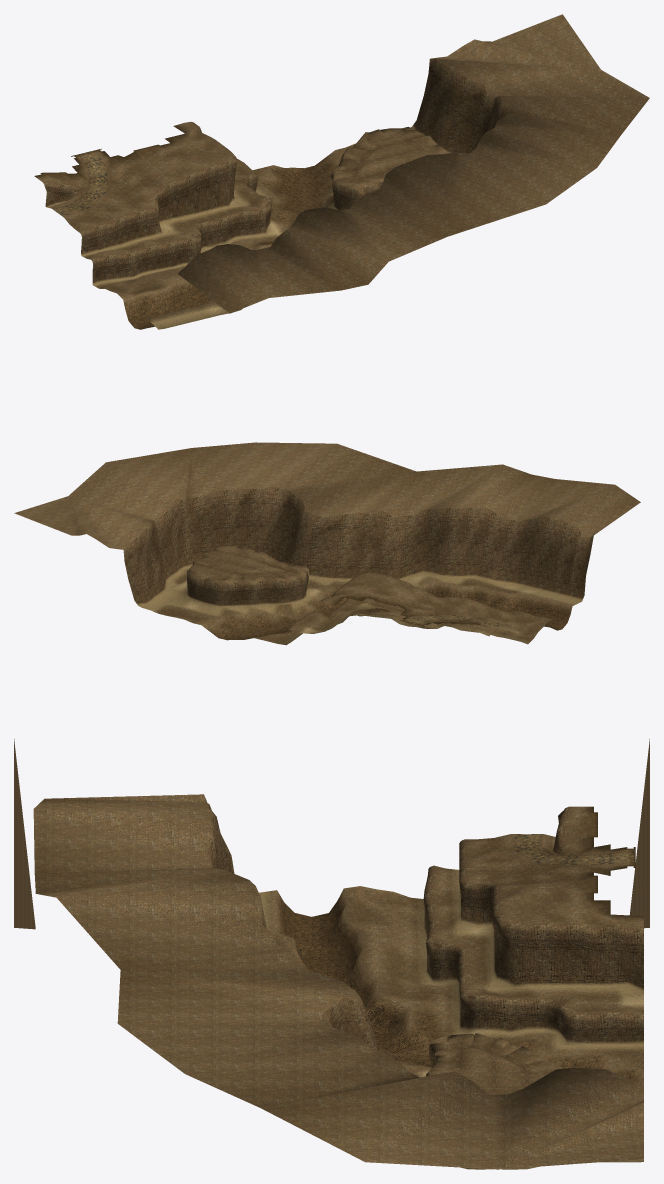
Rendered from Mission12_Zone01C.glb.
3 views of the same model, one above another, from view 1: azimuth 30°, elevation 25°; view 2: azimuth 150°, elevation 25°; view 3: azimuth 270°, elevation 25° (orthographic). The views are drawn at different scales.
Visible parts, largest first — view 1: MISSION12_ZONE01C022, MISSION12_ZONE01C099, MISSION12_ZONE01C023, MISSION12_ZONE01C255, MISSION12_ZONE01C047, MISSION12_ZONE01C044, MISSION12_ZONE01C013, MISSION12_ZONE01C164, MISSION12_ZONE01C002, MISSION12_ZONE01C060, MISSION12_ZONE01C004, MISSION12_ZONE01C001 (+40 smaller); view 2: MISSION12_ZONE01C022, MISSION12_ZONE01C099, MISSION12_ZONE01C164, MISSION12_ZONE01C013, MISSION12_ZONE01C023, MISSION12_ZONE01C044, MISSION12_ZONE01C047, MISSION12_ZONE01C002, MISSION12_ZONE01C026, MISSION12_ZONE01C096, MISSION12_ZONE01C140, MISSION12_ZONE01C027 (+63 smaller); view 3: MISSION12_ZONE01C099, MISSION12_ZONE01C013, MISSION12_ZONE01C002, MISSION12_ZONE01C022, MISSION12_ZONE01C023, MISSION12_ZONE01C164, MISSION12_ZONE01C047, MISSION12_ZONE01C020, MISSION12_ZONE01C231, MISSION12_ZONE01C060, MISSION12_ZONE01C142, MISSION12_ZONE01C240 (+54 smaller).
Boxes of the visible parts, bbox=[...] form: MISSION12_ZONE01C022: bbox=[447, 154, 545, 236]; MISSION12_ZONE01C099: bbox=[501, 95, 649, 134]; MISSION12_ZONE01C023: bbox=[477, 148, 596, 204]; MISSION12_ZONE01C255: bbox=[493, 14, 600, 69]; MISSION12_ZONE01C047: bbox=[495, 127, 620, 167]; MISSION12_ZONE01C044: bbox=[394, 154, 447, 236]; MISSION12_ZONE01C013: bbox=[350, 209, 446, 261]; MISSION12_ZONE01C164: bbox=[506, 70, 649, 97]; MISSION12_ZONE01C002: bbox=[261, 249, 340, 297]; MISSION12_ZONE01C060: bbox=[476, 128, 596, 167]; MISSION12_ZONE01C004: bbox=[289, 228, 388, 284]; MISSION12_ZONE01C001: bbox=[209, 250, 268, 313]; MISSION12_ZONE01C022: bbox=[283, 443, 416, 487]; MISSION12_ZONE01C099: bbox=[106, 448, 191, 498]; MISSION12_ZONE01C164: bbox=[68, 462, 160, 516]; MISSION12_ZONE01C013: bbox=[405, 464, 501, 515]; MISSION12_ZONE01C023: bbox=[255, 442, 336, 486]; MISSION12_ZONE01C044: bbox=[296, 471, 415, 516]; MISSION12_ZONE01C047: bbox=[191, 442, 255, 488]; MISSION12_ZONE01C002: bbox=[518, 479, 614, 519]; MISSION12_ZONE01C026: bbox=[531, 516, 562, 593]; MISSION12_ZONE01C096: bbox=[232, 488, 266, 549]; MISSION12_ZONE01C140: bbox=[186, 495, 209, 560]; MISSION12_ZONE01C027: bbox=[514, 516, 543, 588]; MISSION12_ZONE01C099: bbox=[261, 1071, 454, 1161]; MISSION12_ZONE01C013: bbox=[57, 898, 276, 969]; MISSION12_ZONE01C002: bbox=[33, 809, 208, 872]; MISSION12_ZONE01C022: bbox=[117, 970, 316, 1023]; MISSION12_ZONE01C023: bbox=[118, 1023, 325, 1073]; MISSION12_ZONE01C164: bbox=[365, 1095, 497, 1169]; MISSION12_ZONE01C047: bbox=[185, 1047, 368, 1107]; MISSION12_ZONE01C020: bbox=[57, 897, 272, 934]; MISSION12_ZONE01C231: bbox=[498, 1067, 623, 1168]; MISSION12_ZONE01C060: bbox=[186, 1026, 368, 1073]; MISSION12_ZONE01C142: bbox=[366, 1071, 489, 1161]; MISSION12_ZONE01C240: bbox=[577, 920, 612, 998].
Size of the model in its own units: 212 by 50.83 by 153.
Materials: 25 (25 with a texture image).
